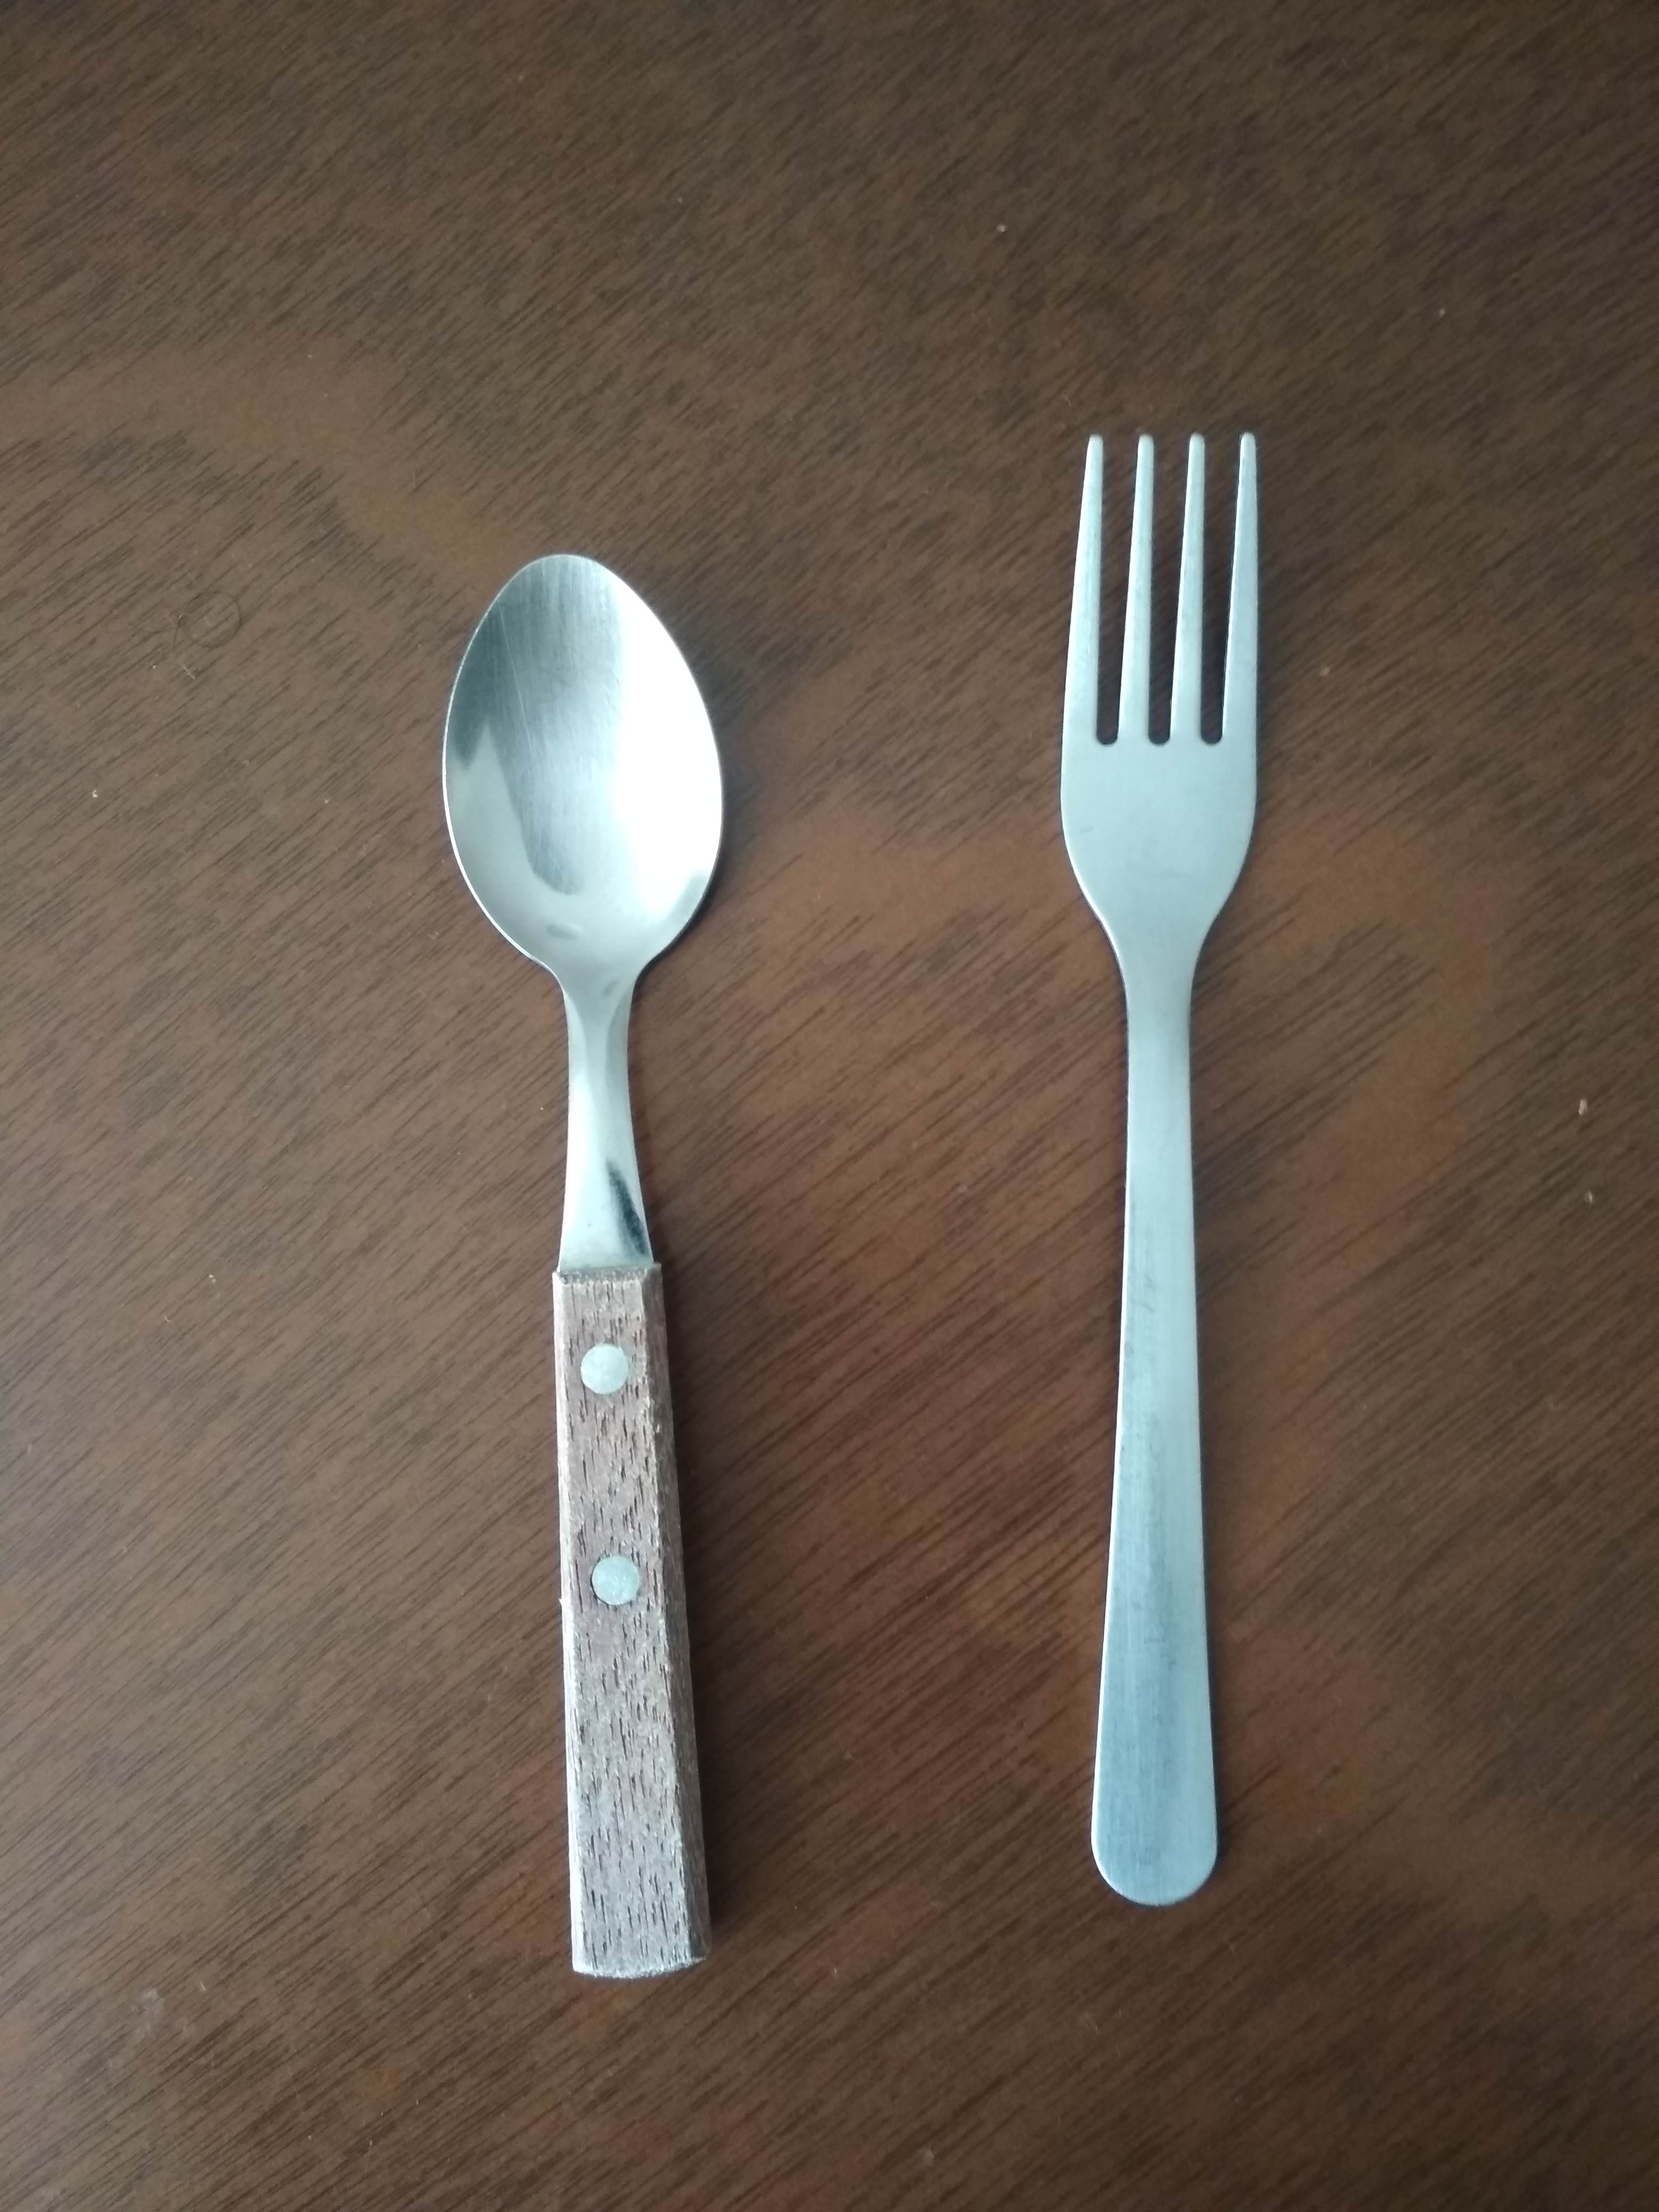fork: (1026, 395, 1290, 1925)
spoon: (415, 531, 763, 2010)
